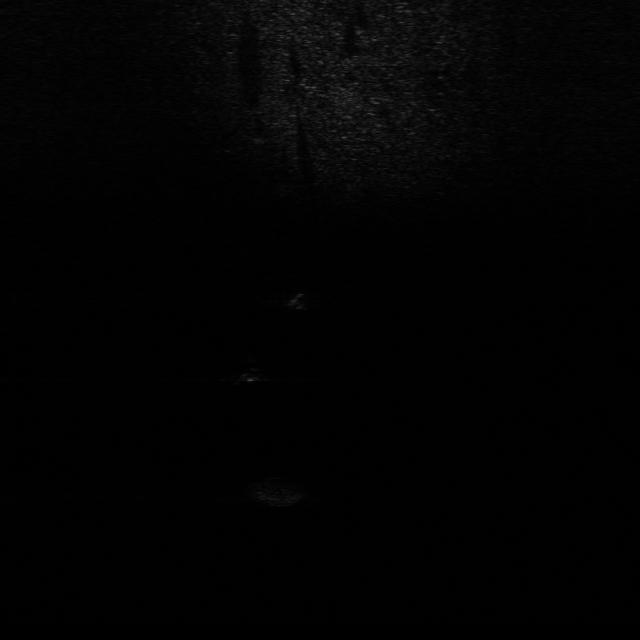ball: (230, 358, 270, 387)
circle cage: (238, 471, 314, 508)
human body: (278, 285, 322, 311)
